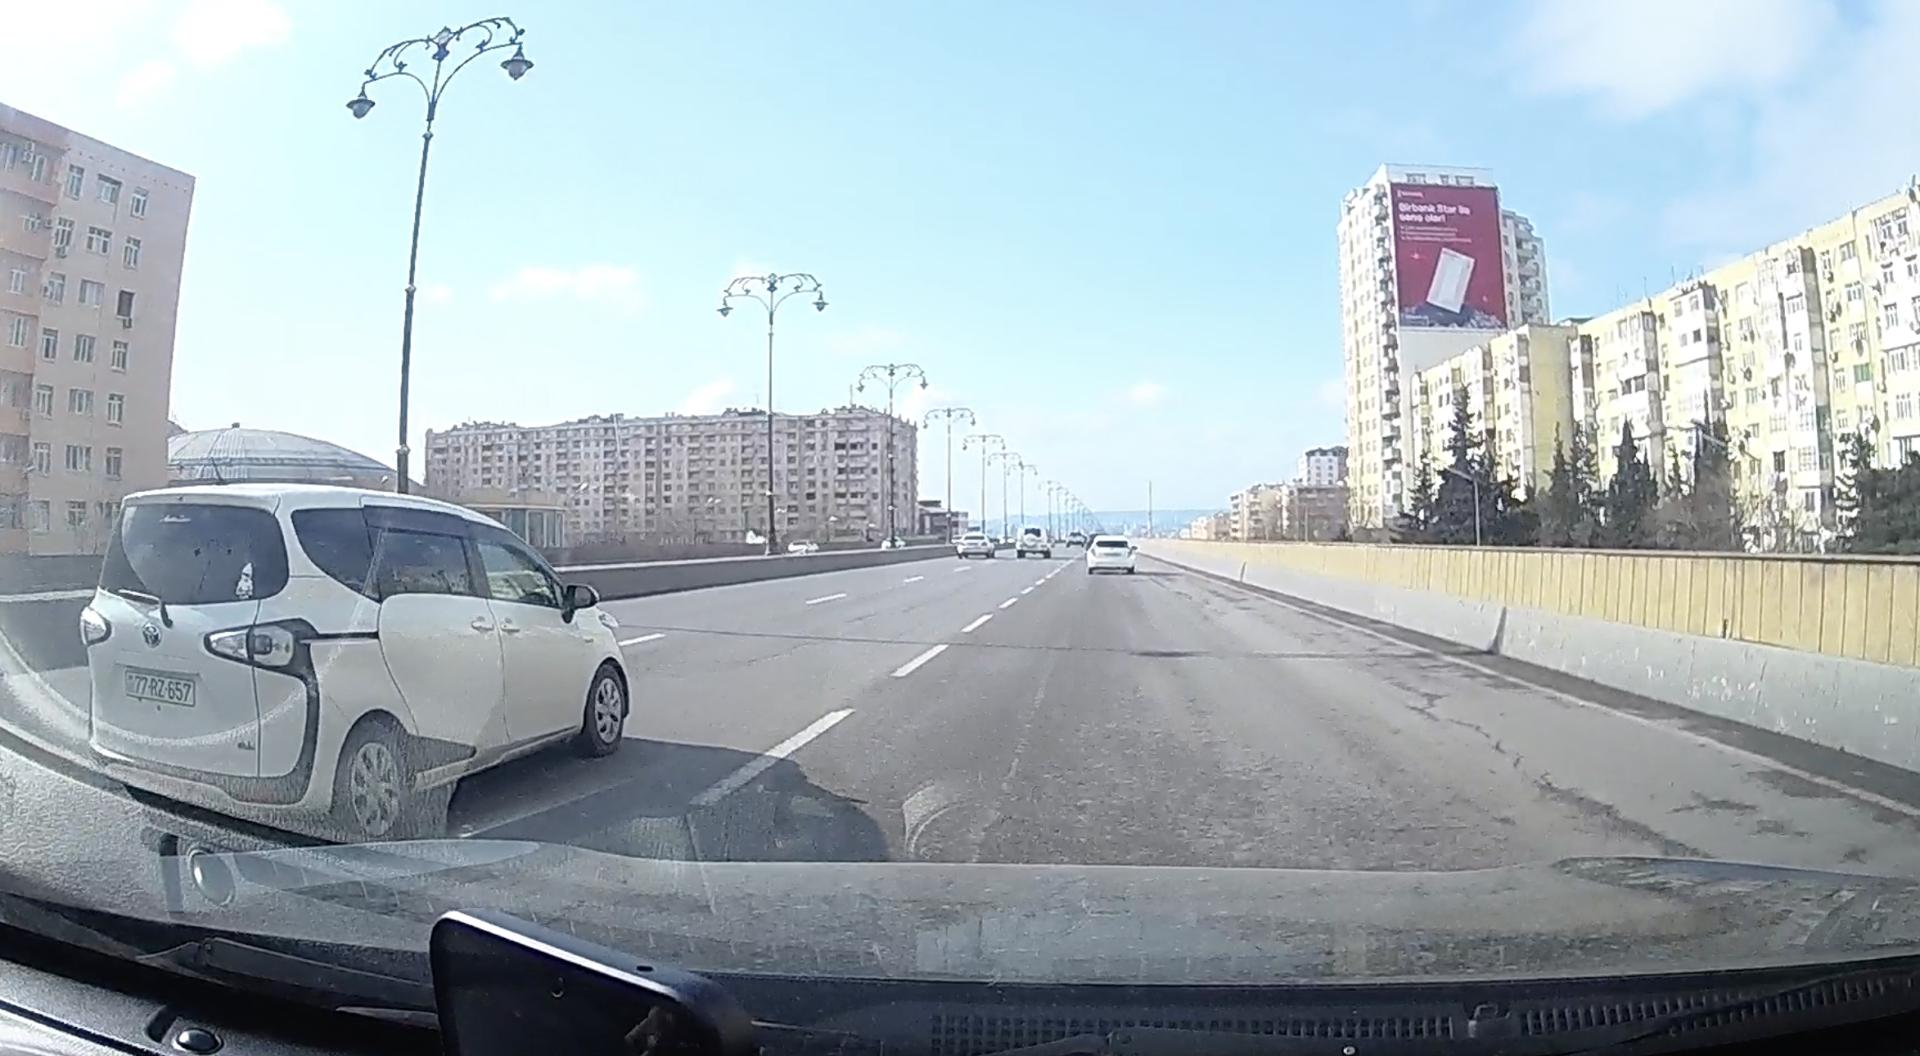banner: (1389, 182, 1508, 332)
